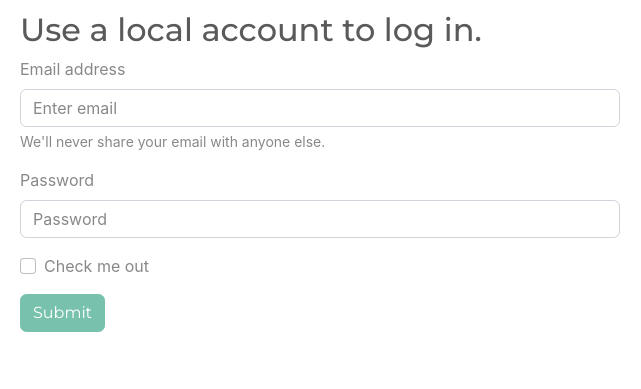
Test: Login component › should fail on incorrect email validation
The width and height of the screenshot is (641, 389).
In the field with placeholder "Enter email": (320, 108) [20,89,620,127], type "vasit.abv.bg"
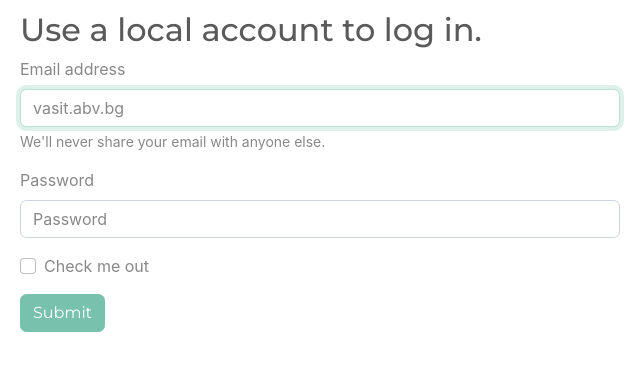
In the password field with placeholder "Password": (320, 219) [20,200,620,238], type "11111111"
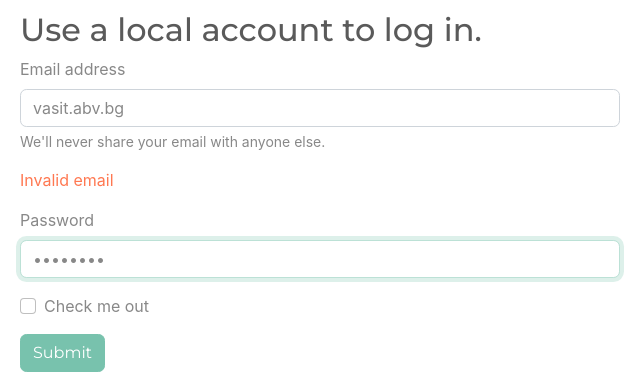
Expected: the text "Invalid email" is shown, [20,170,114,190]
